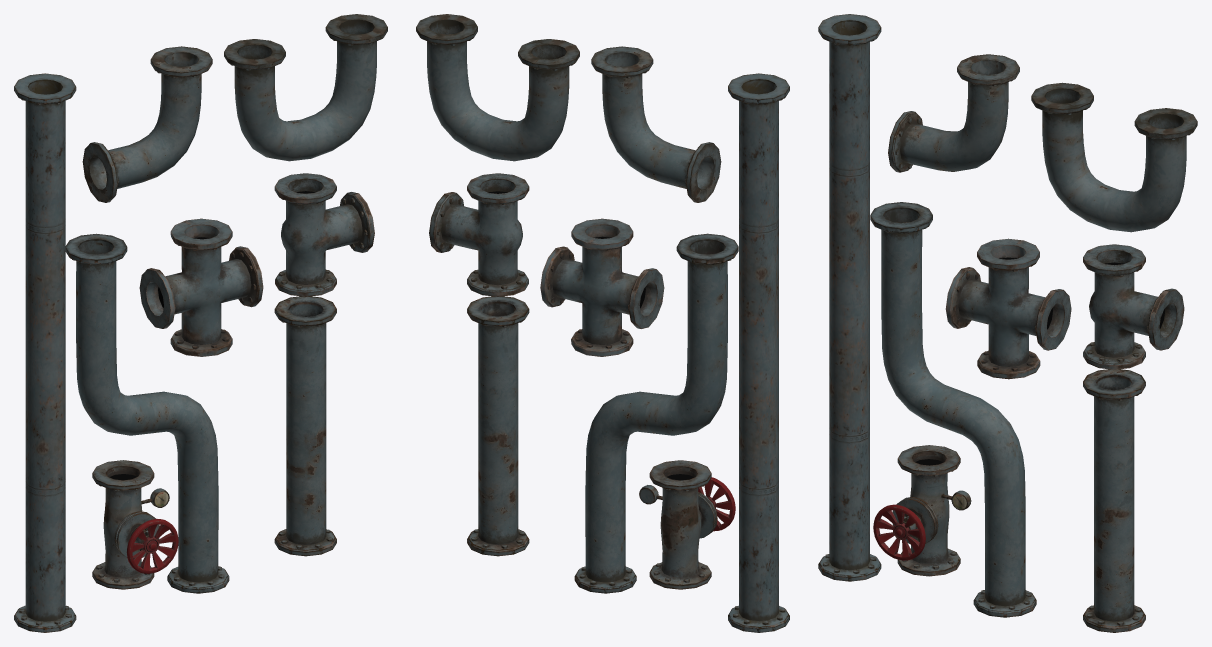
Rendered from modular_industrial_pipes_01_2k.gltf.
3 views of the same model, side by side, from view 1: azimuth 30°, elevation 25°; view 2: azimuth 150°, elevation 25°; view 3: azimuth 330°, elevation 25° (orthographic).
Visible parts, largest first — view 1: modular_industrial_pipes_01_pipe02, modular_industrial_pipes_01_pipe03, modular_industrial_pipes_01_pipe05, modular_industrial_pipes_01_pipe01, modular_industrial_pipes_01_pipe07, modular_industrial_pipes_01_pipe04, modular_industrial_pipes_01_pipe06, modular_industrial_pipes_01_pipe08; view 2: modular_industrial_pipes_01_pipe02, modular_industrial_pipes_01_pipe03, modular_industrial_pipes_01_pipe05, modular_industrial_pipes_01_pipe01, modular_industrial_pipes_01_pipe07, modular_industrial_pipes_01_pipe04, modular_industrial_pipes_01_pipe06, modular_industrial_pipes_01_pipe08; view 3: modular_industrial_pipes_01_pipe02, modular_industrial_pipes_01_pipe03, modular_industrial_pipes_01_pipe05, modular_industrial_pipes_01_pipe01, modular_industrial_pipes_01_pipe07, modular_industrial_pipes_01_pipe06, modular_industrial_pipes_01_pipe04, modular_industrial_pipes_01_pipe08.
Boxes of the visible parts, x1,y1,x2,y2 form: modular_industrial_pipes_01_pipe02: (14,73,76,632); modular_industrial_pipes_01_pipe03: (65,233,229,593); modular_industrial_pipes_01_pipe05: (224,14,387,161); modular_industrial_pipes_01_pipe01: (274,296,336,556); modular_industrial_pipes_01_pipe07: (139,218,263,356); modular_industrial_pipes_01_pipe04: (82,46,212,202); modular_industrial_pipes_01_pipe06: (274,173,374,296); modular_industrial_pipes_01_pipe08: (92,460,178,589); modular_industrial_pipes_01_pipe02: (728,73,789,632); modular_industrial_pipes_01_pipe03: (574,233,738,593); modular_industrial_pipes_01_pipe05: (416,14,579,161); modular_industrial_pipes_01_pipe01: (467,296,529,556); modular_industrial_pipes_01_pipe07: (540,218,664,356); modular_industrial_pipes_01_pipe04: (591,46,721,202); modular_industrial_pipes_01_pipe06: (429,173,529,296); modular_industrial_pipes_01_pipe08: (639,460,735,589); modular_industrial_pipes_01_pipe02: (818,14,881,581); modular_industrial_pipes_01_pipe03: (870,202,1036,617); modular_industrial_pipes_01_pipe05: (1031,82,1197,232); modular_industrial_pipes_01_pipe01: (1083,369,1145,632); modular_industrial_pipes_01_pipe07: (945,238,1071,379); modular_industrial_pipes_01_pipe06: (1083,244,1184,369); modular_industrial_pipes_01_pipe04: (888,54,1019,172); modular_industrial_pipes_01_pipe08: (873,445,971,576).
Bounding box in the file's own units: 1.4 × 1.95 × 0.3076.
Materials: 2 (2 with a texture image).
